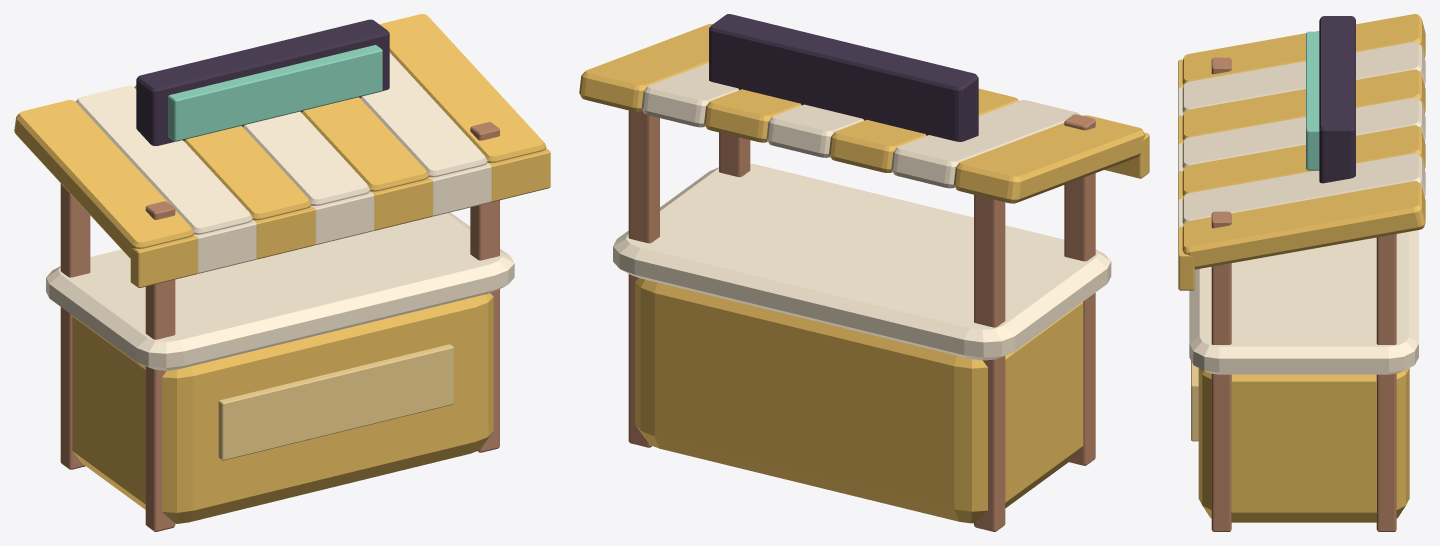
File: festival_stall.glb
3 renders of one model, left to right at view 1: azimuth 30°, elevation 25°; view 2: azimuth 150°, elevation 25°; view 3: azimuth 270°, elevation 25°, orthographic. The views are drawn at different scales.
Parts seen in each view (by area): view 1: model, awning, counter, sign_blank, sign_back; view 2: model, counter, awning, sign_back; view 3: awning, model, counter, sign_back, sign_blank.
Boxes of the visible parts, box(x1,y1,x2,y2) form: model: box(46, 122, 550, 531); awning: box(14, 14, 546, 258); counter: box(72, 293, 493, 523); sign_blank: box(168, 45, 382, 141); sign_back: box(136, 19, 389, 145); model: box(613, 110, 1149, 531); counter: box(635, 278, 1083, 523); awning: box(579, 24, 1144, 203); sign_back: box(709, 14, 978, 141); awning: box(1182, 14, 1425, 269); model: box(1178, 57, 1418, 531); counter: box(1198, 368, 1409, 522); sign_back: box(1319, 16, 1355, 183); sign_blank: box(1306, 31, 1319, 170).
Bounding box in the file's own units: 1.5 × 1.35 × 0.8.
